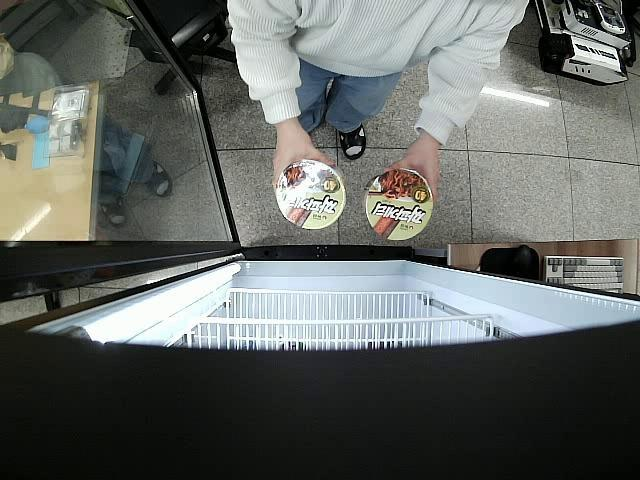03_chapagetti_L: (364, 169, 434, 242), (278, 160, 346, 230)
